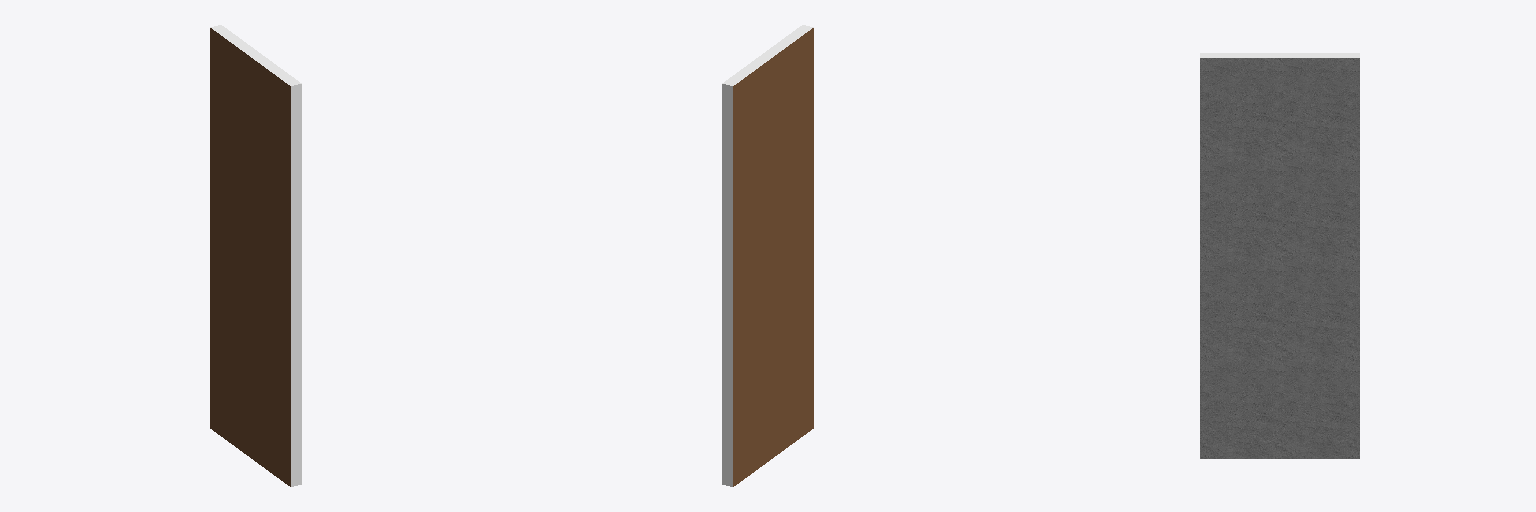
3 renders of one model, left to right at view 1: azimuth 30°, elevation 25°; view 2: azimuth 150°, elevation 25°; view 3: azimuth 270°, elevation 25°, orthographic.
Parts seen in each view (by area): view 1: Mesh1 Model; view 2: Mesh1 Model; view 3: Mesh1 Model.
Part boxes in pixels (left/top/right/bottom): Mesh1 Model: left=210, top=25, right=301, bottom=486; Mesh1 Model: left=722, top=25, right=813, bottom=486; Mesh1 Model: left=1200, top=53, right=1359, bottom=458.
Bounding box in the file's own units: 0.08 × 2.75 × 1.
Materials: 3 (1 with a texture image).